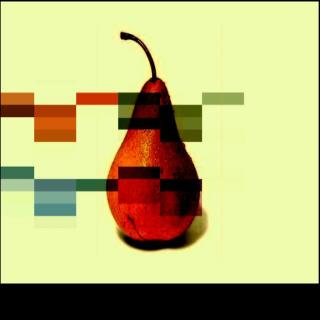Pear: (105, 77, 200, 242)
